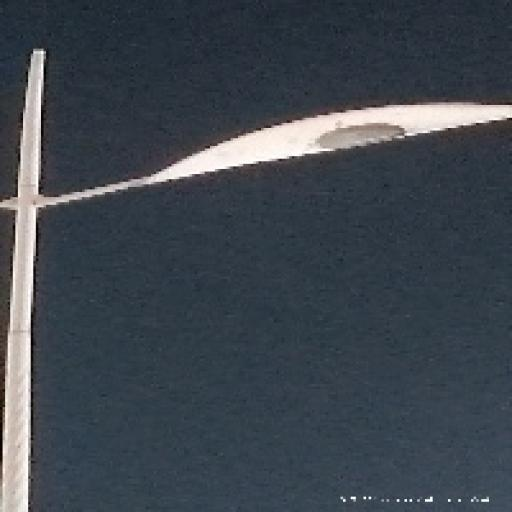Not Working: (105, 74, 512, 212)
